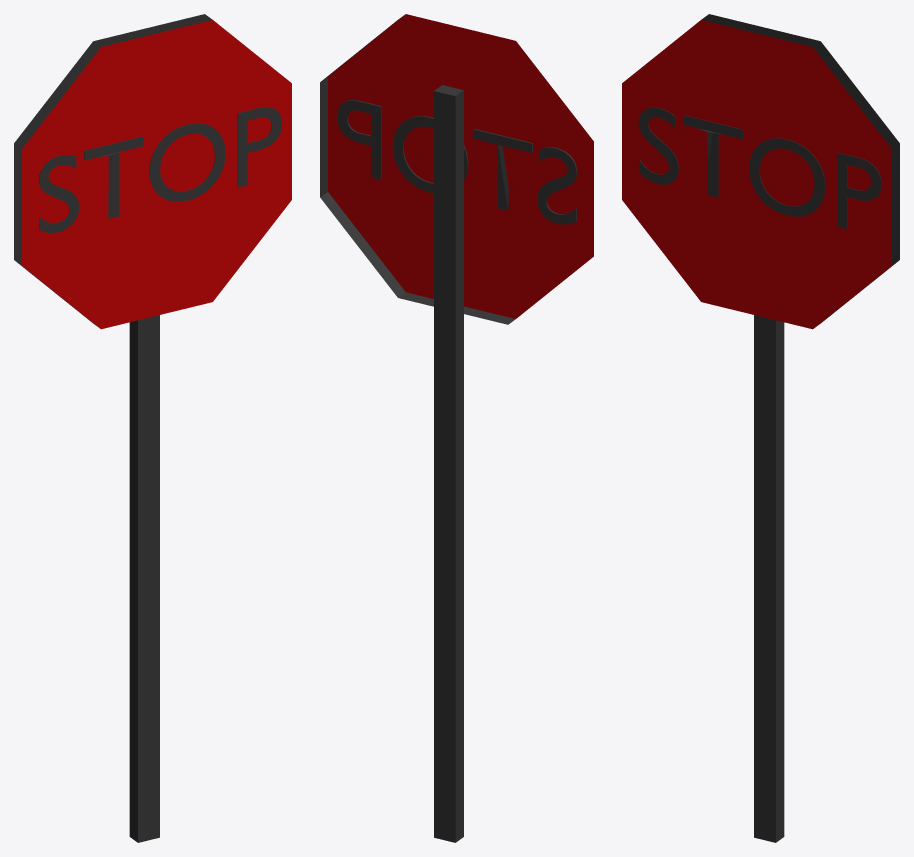
File: stopsign.obj
The picture shows the model from 3 angles, left to right: view 1: azimuth 30°, elevation 25°; view 2: azimuth 150°, elevation 25°; view 3: azimuth 330°, elevation 25°; orthographic projection.
Visible parts, largest first — view 1: Cube, Text; view 2: Cube, Text; view 3: Cube, Text.
Part boxes in pixels (x1,y1,x2,y2): Cube: (14, 14, 291, 842); Text: (39, 107, 281, 232); Cube: (320, 14, 593, 842); Text: (337, 100, 577, 224); Cube: (622, 14, 899, 842); Text: (638, 107, 881, 228).
Size of the model in its own units: 2.6 by 7.5 by 0.2989.
